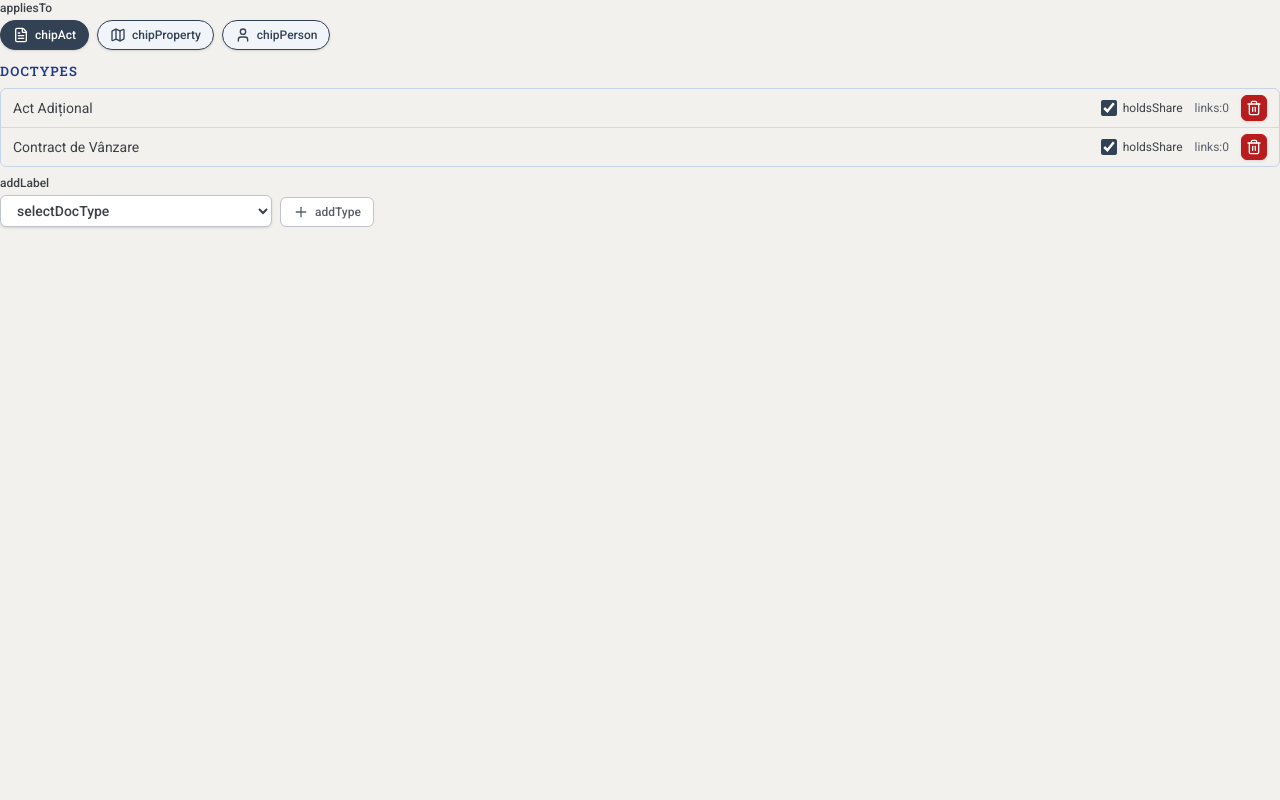
Test: the chips are the existing columns › turning Act off while types are listed asks first, naming them
This screenshot has width=1280, height=800.
Click the button "chipAct".
click(44, 35)  # box [0,20,89,50]
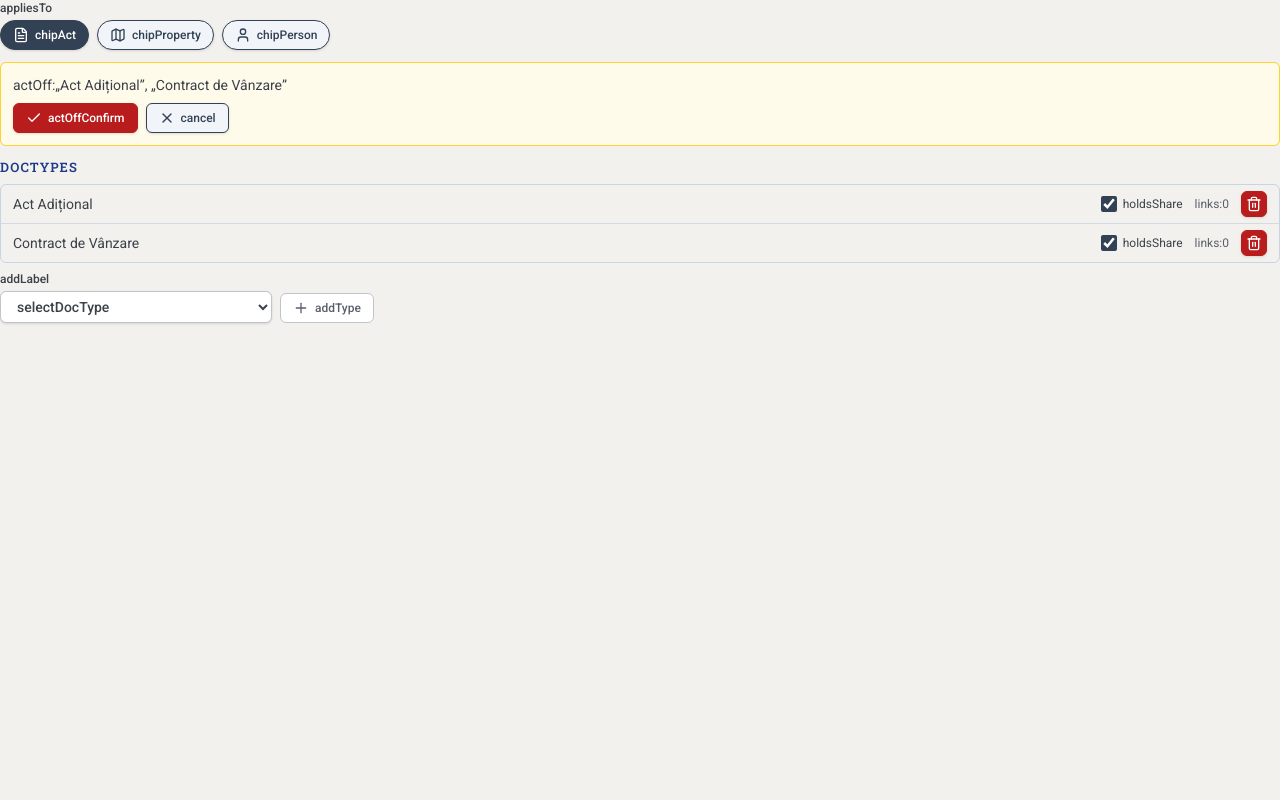
Expected: the dialog named "actOffTitle" shows "actOff:„Act Adițional”, „Contract de Vânzare”", [13,77,287,93]
